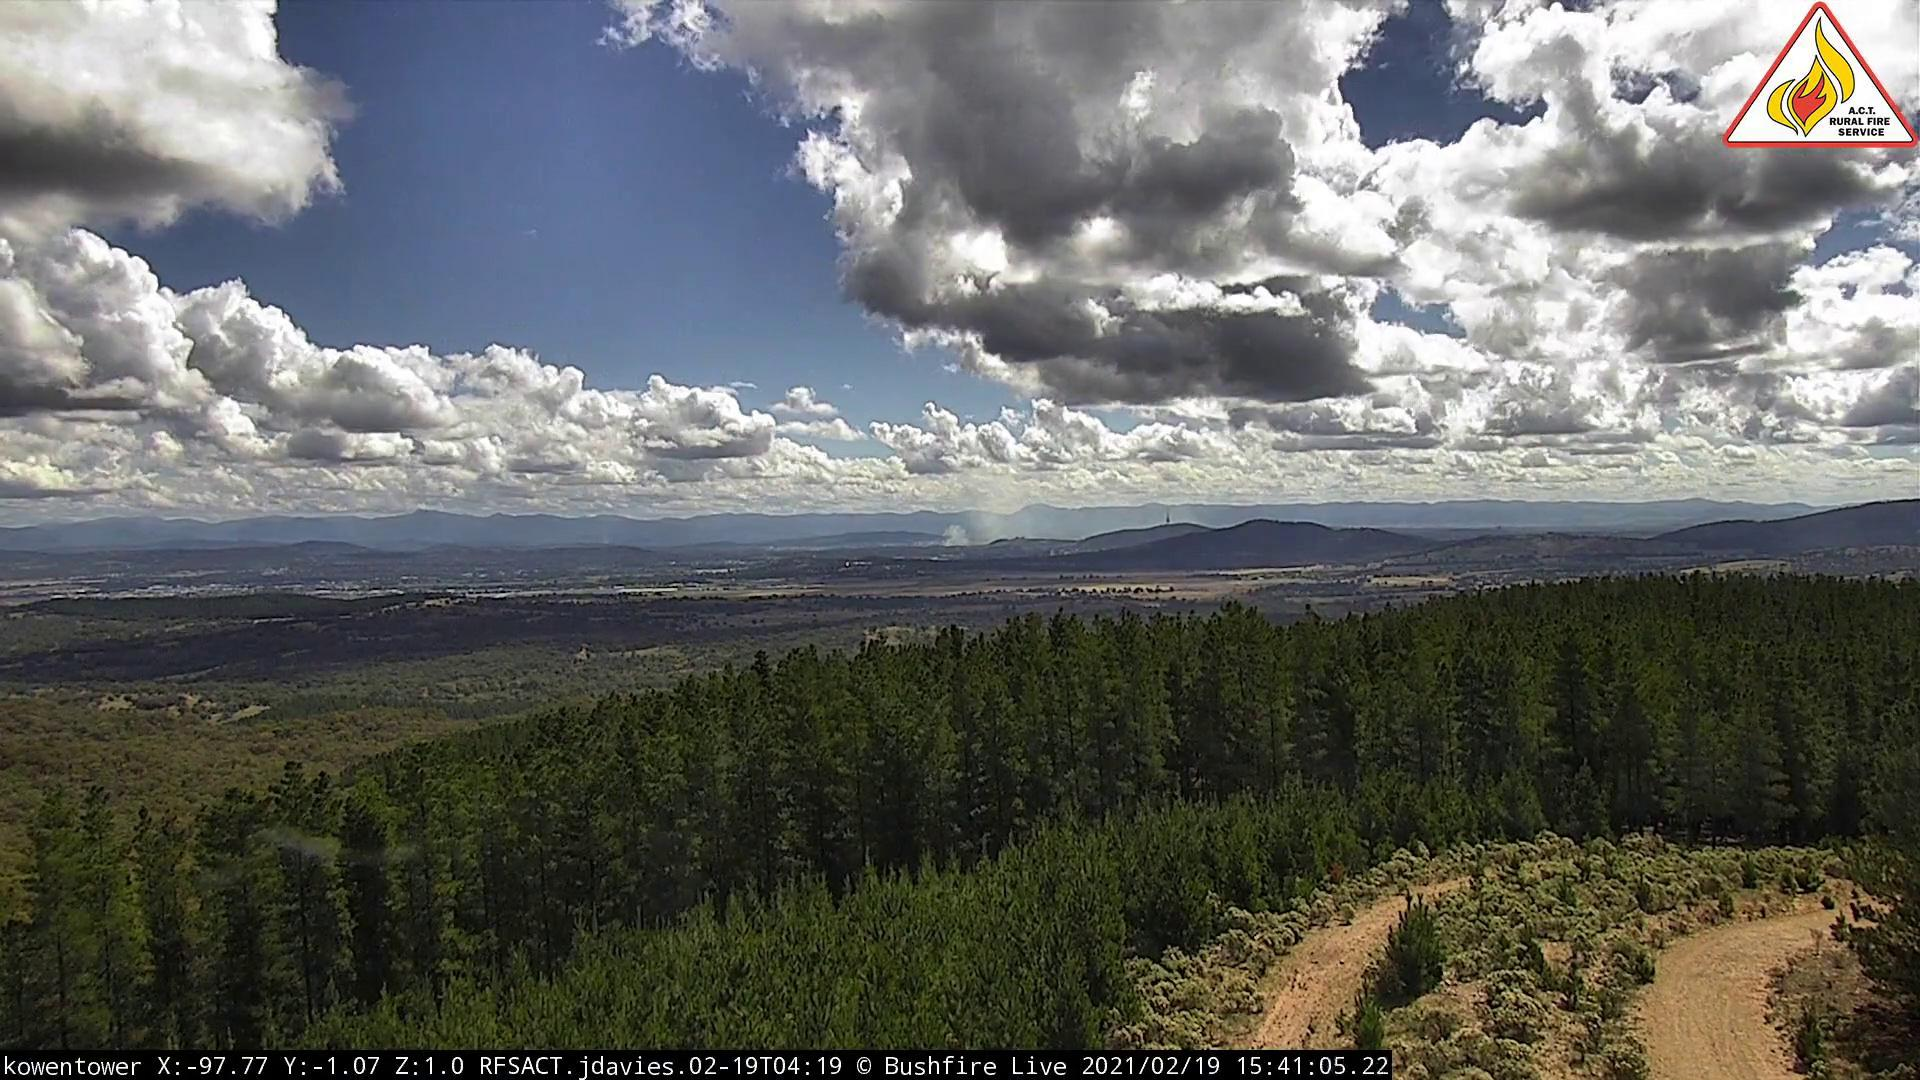Smoke: (935, 497, 1042, 551), (603, 526, 622, 553)
